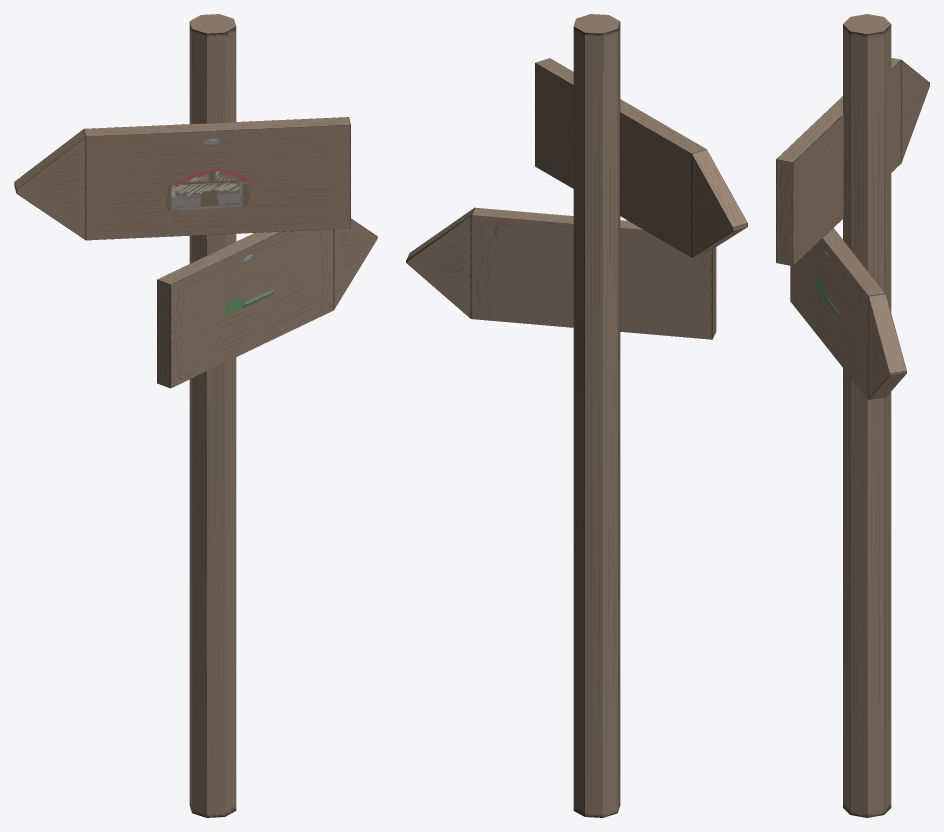
Rendered from Sign.fbx.
3 views of the same model, side by side, from view 1: azimuth 30°, elevation 25°; view 2: azimuth 150°, elevation 25°; view 3: azimuth 270°, elevation 25° (orthographic).
Parts seen in each view (by area): view 1: Plane, Cylinder, Plane.001; view 2: Cylinder, Plane.001, Plane; view 3: Cylinder, Plane.001, Plane.
Boxes of the visible parts, x1,y1,x2,y2 form: Plane: [14, 117, 350, 240]; Cylinder: [189, 14, 236, 817]; Plane.001: [157, 218, 377, 388]; Cylinder: [573, 14, 620, 817]; Plane.001: [406, 207, 716, 339]; Plane: [535, 58, 747, 257]; Cylinder: [843, 14, 891, 817]; Plane.001: [790, 228, 906, 399]; Plane: [776, 58, 929, 265].
Bounding box in the file's own units: 129 × 277 × 49.28.
